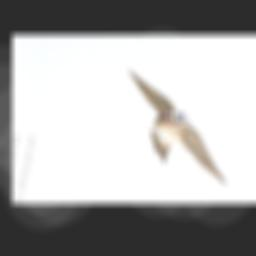Swallow: (106, 69, 253, 186)
